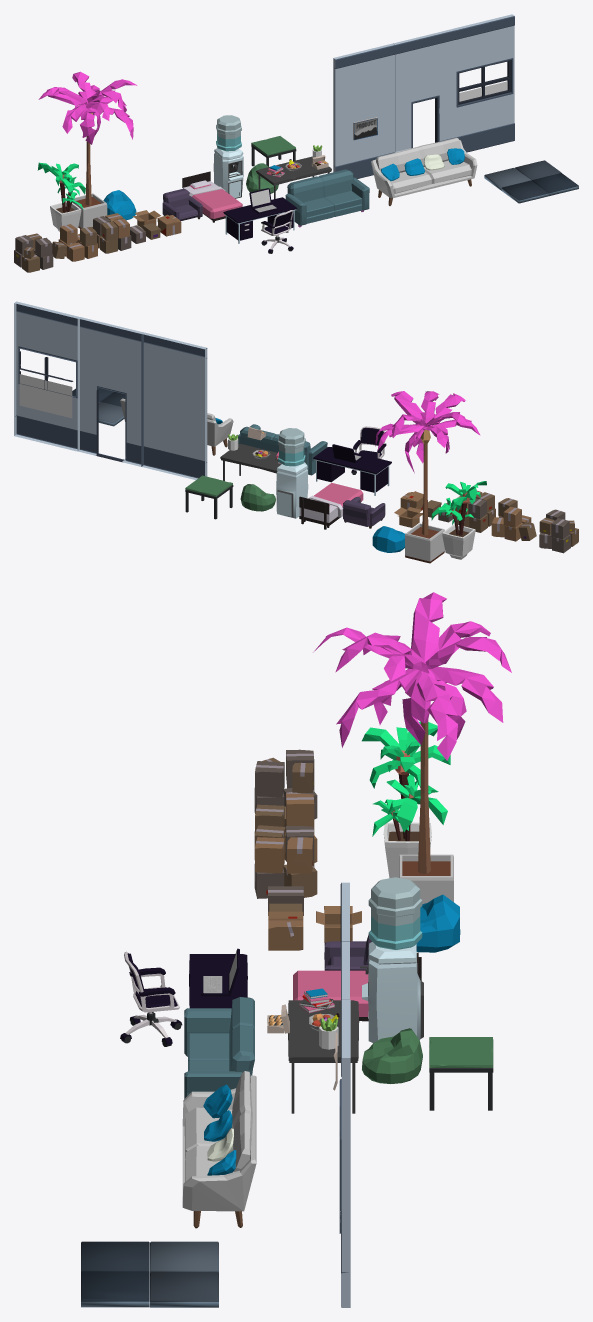
3 renders of one model, top to bottom at view 1: azimuth 30°, elevation 25°; view 2: azimuth 150°, elevation 25°; view 3: azimuth 270°, elevation 25°, orthographic. The views are drawn at different scales.
Visible parts, largest first — view 1: Wall, Wall_Window, Wall_Door, Couch1x3, Couch1x2, Plant21, Bed, combination—Desk, BOX 04, BOX 05, WaterCooler—up, BOX 03 (+19 smaller); view 2: Wall, Wall_Door, Wall_Window, Plant21, combination—Desk, Window_Glass, Bed, WaterCooler—up, BOX 04, BOX 05, Plant22, Plant11 (+15 smaller); view 3: Plant21, Couch1x3, Couch1x2, WaterCooler—up, Plant11, BOX 03, WaterCooler—down, Wall_Window, Desk1X2, BOX 05, Table1x1, Pillow 01 (+16 smaller).
Boxes of the visible parts, x1,y1,x2,y2 form: Wall: [333, 43, 395, 178]; Wall_Window: [453, 14, 514, 152]; Wall_Door: [393, 29, 455, 152]; Couch1x3: [371, 137, 477, 205]; Couch1x2: [285, 169, 369, 227]; Plant21: [38, 71, 137, 205]; Bed: [182, 171, 242, 222]; combination—Desk: [223, 197, 297, 243]; BOX 04: [52, 224, 97, 261]; BOX 05: [14, 233, 53, 272]; WaterCooler—up: [213, 148, 243, 198]; BOX 03: [93, 213, 131, 253]; Wall: [141, 332, 207, 479]; Wall_Door: [77, 317, 143, 466]; Wall_Window: [14, 301, 79, 451]; Plant21: [375, 391, 480, 535]; combination—Desk: [313, 447, 391, 495]; Window_Glass: [19, 374, 72, 418]; Bed: [299, 483, 363, 529]; WaterCooler—up: [276, 462, 308, 518]; BOX 04: [491, 498, 536, 541]; BOX 05: [539, 509, 578, 553]; Plant22: [405, 523, 444, 563]; Plant11: [431, 481, 486, 535]; Plant21: [313, 592, 511, 874]; Couch1x3: [182, 1071, 256, 1228]; Couch1x2: [184, 997, 254, 1098]; WaterCooler—up: [360, 942, 423, 1042]; Plant11: [362, 721, 450, 841]; BOX 03: [254, 825, 317, 898]; WaterCooler—down: [368, 877, 422, 949]; Wall_Window: [340, 999, 350, 1307]; Desk1X2: [288, 1000, 359, 1113]; BOX 05: [254, 749, 317, 819]; Table1x1: [429, 1037, 493, 1110]; Pillow 01: [362, 1028, 422, 1083].
Size of the model in its own units: 3402 by 934 by 1251.
